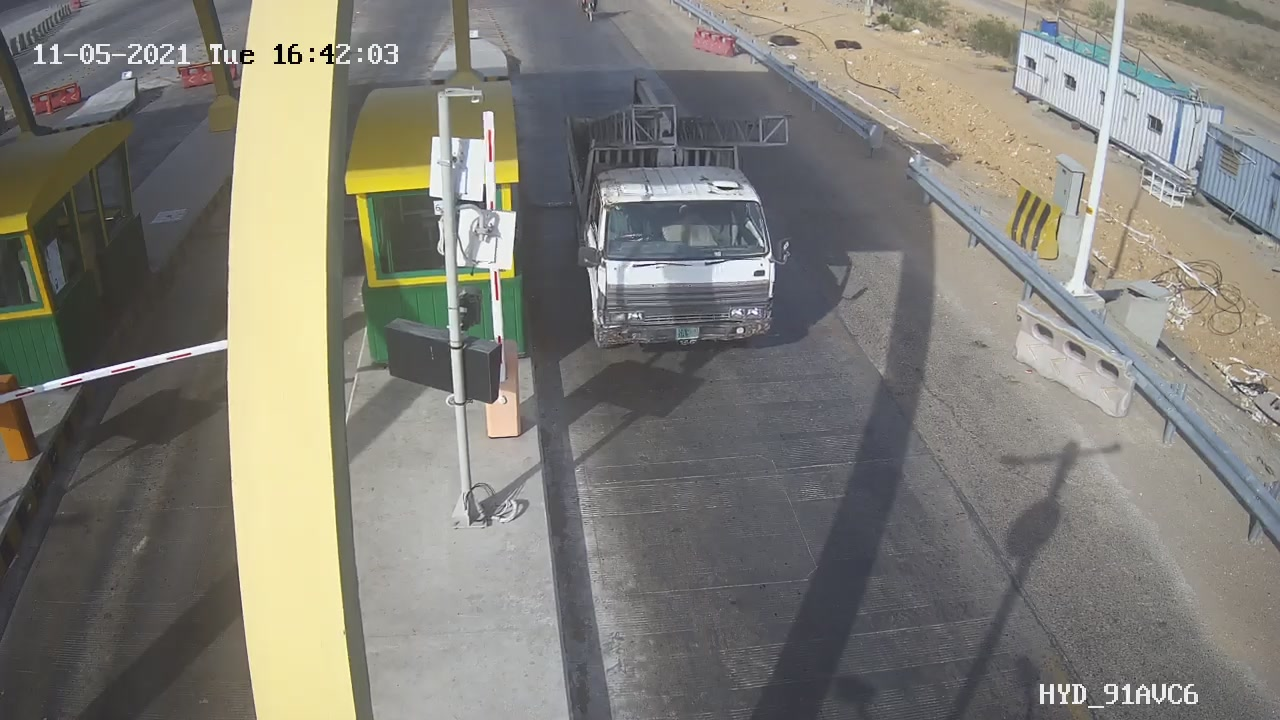F3: (544, 68, 820, 365)
